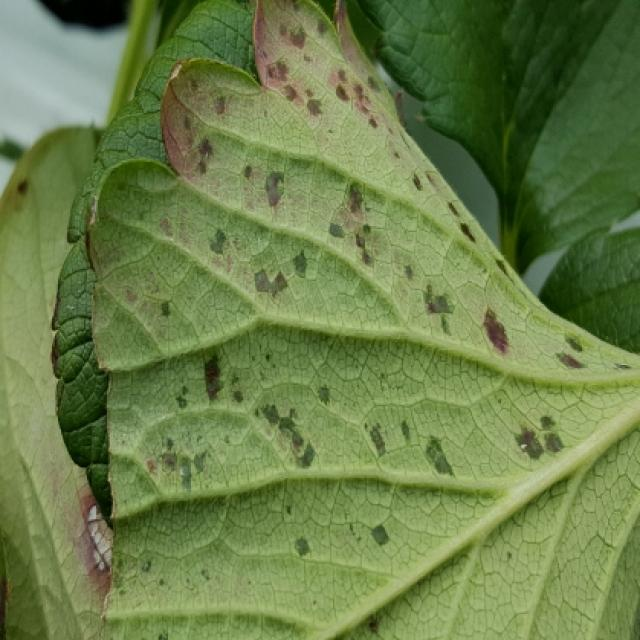Angular Leafspot: (82, 0, 637, 638), (45, 455, 114, 638)
